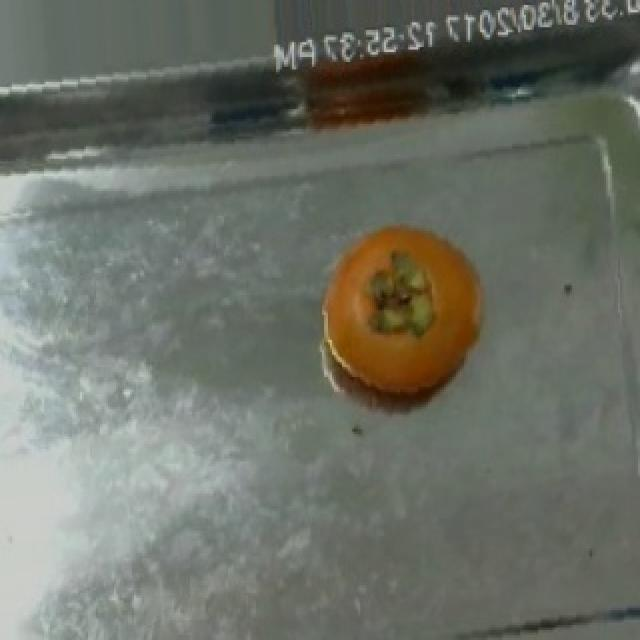Fruit: (302, 211, 504, 417)
